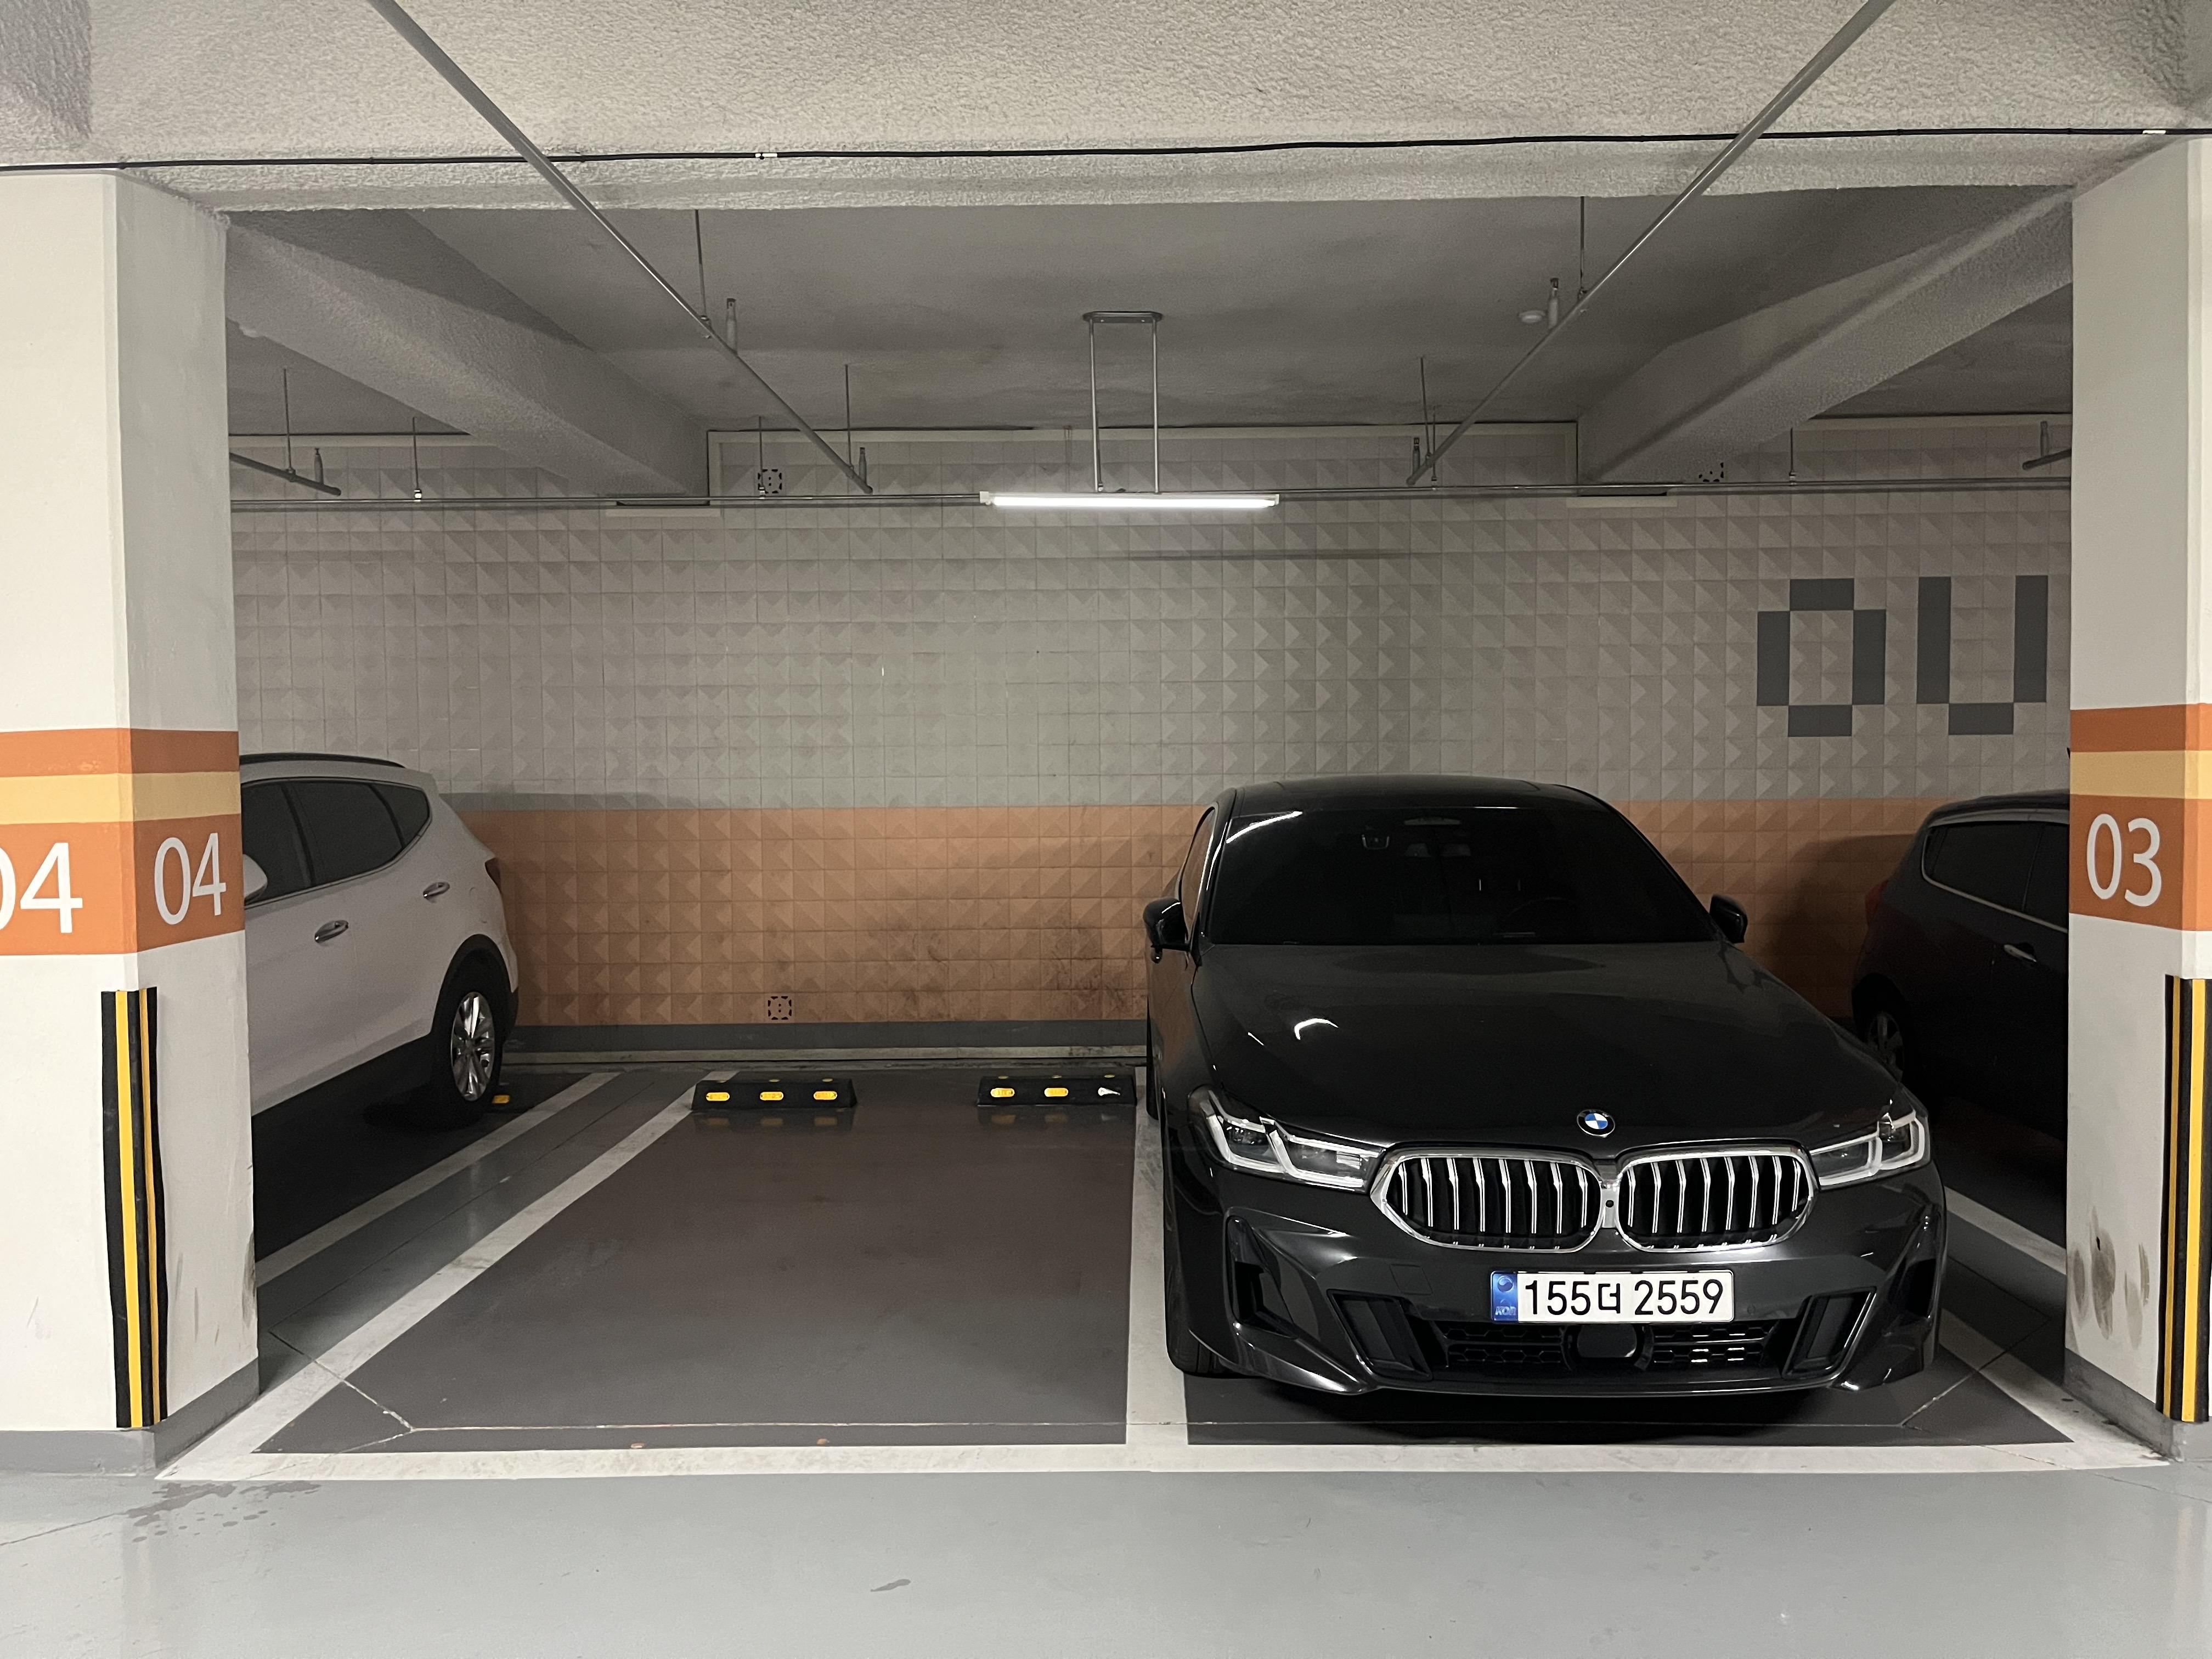empty: (109, 1042, 1195, 1503)
occupied: (1136, 719, 2042, 1497)
